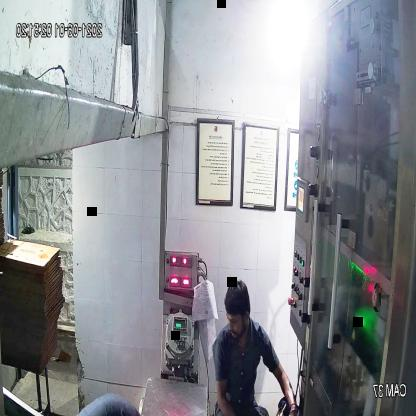no_goggles: (225, 306, 253, 328)
